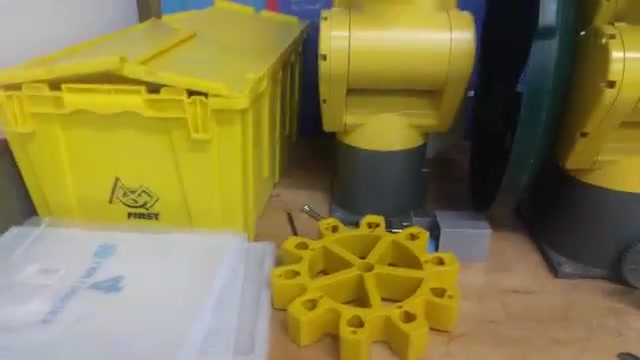gear: (264, 211, 453, 359)
